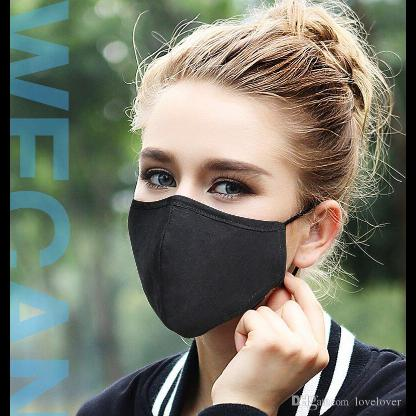Fabric/Cloth Mask: (124, 94, 340, 330)
